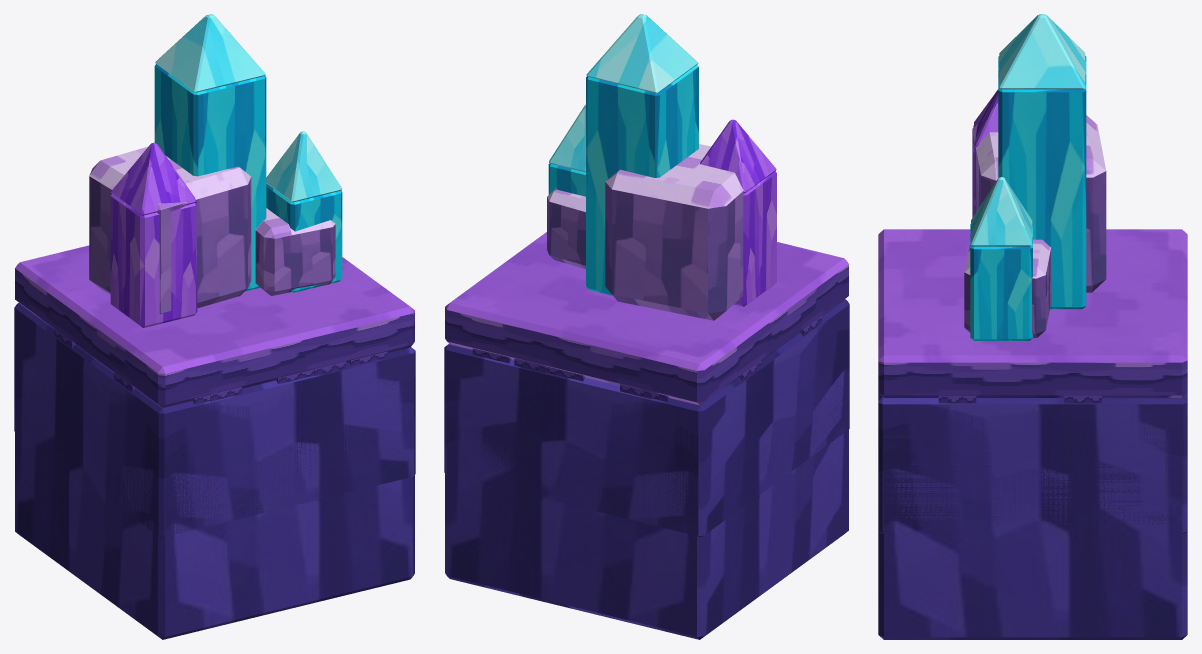
The model's file is cave.glb.
The picture shows the model from 3 angles, left to right: view 1: azimuth 30°, elevation 25°; view 2: azimuth 150°, elevation 25°; view 3: azimuth 270°, elevation 25°; orthographic projection. The views are drawn at different scales.
Parts seen in each view (by area): view 1: edge, ground, plant, rocks; view 2: ground, edge, plant, rocks; view 3: ground, edge, plant, rocks.
Boxes of the visible parts, <box> form: edge: <box>15,279,414,639</box>; ground: <box>14,245,415,537</box>; plant: <box>110,14,342,327</box>; rocks: <box>89,146,335,314</box>; ground: <box>444,232,849,536</box>; edge: <box>445,299,848,639</box>; plant: <box>548,14,776,306</box>; rocks: <box>547,144,743,320</box>; ground: <box>878,229,1187,533</box>; edge: <box>878,405,1187,639</box>; plant: <box>970,14,1086,340</box>; rocks: <box>964,115,1106,337</box>.
Bounding box in the file's own units: 0.985 × 1.98 × 0.985.
Materials: 1 (1 with a texture image).
